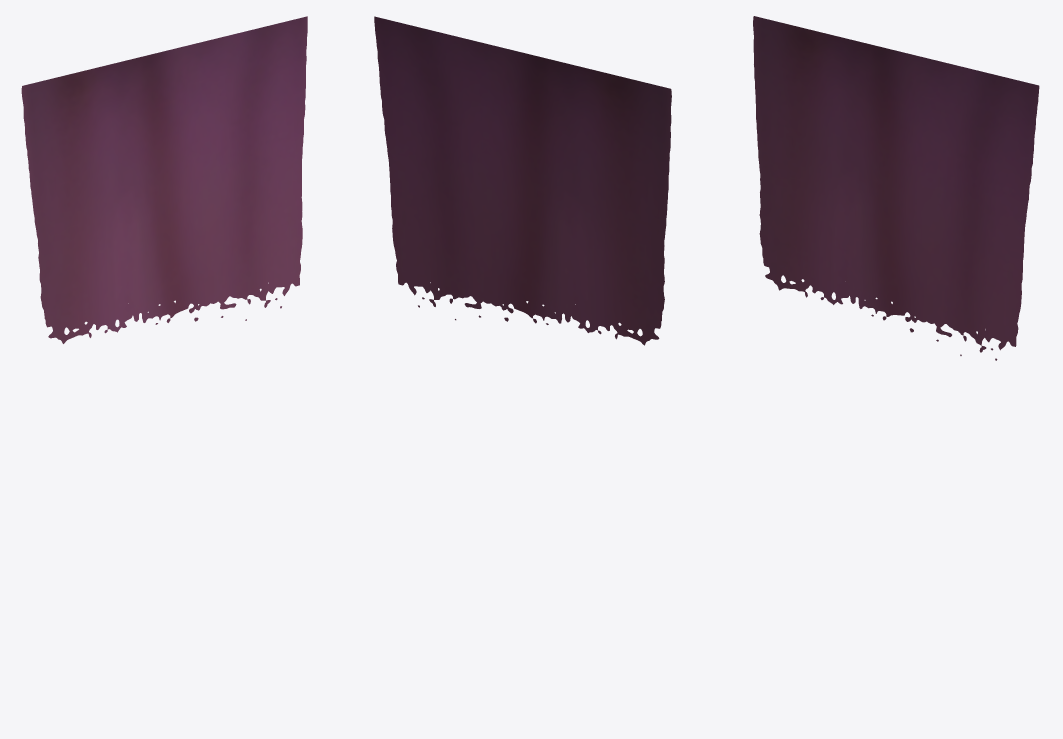
The model's file is broad_Curtain_002.FBX.
3 renders of one model, left to right at view 1: azimuth 30°, elevation 25°; view 2: azimuth 150°, elevation 25°; view 3: azimuth 330°, elevation 25°, orthographic. The views are drawn at different scales.
Parts seen in each view (by area): view 1: broad_Curtain_002; view 2: broad_Curtain_002; view 3: broad_Curtain_002.
Boxes of the visible parts, x1,y1,x2,y2 form: broad_Curtain_002: (21, 16, 307, 343); broad_Curtain_002: (374, 16, 671, 345); broad_Curtain_002: (753, 16, 1039, 360).
Bounding box in the file's own units: 435 × 856 × 46.43.
